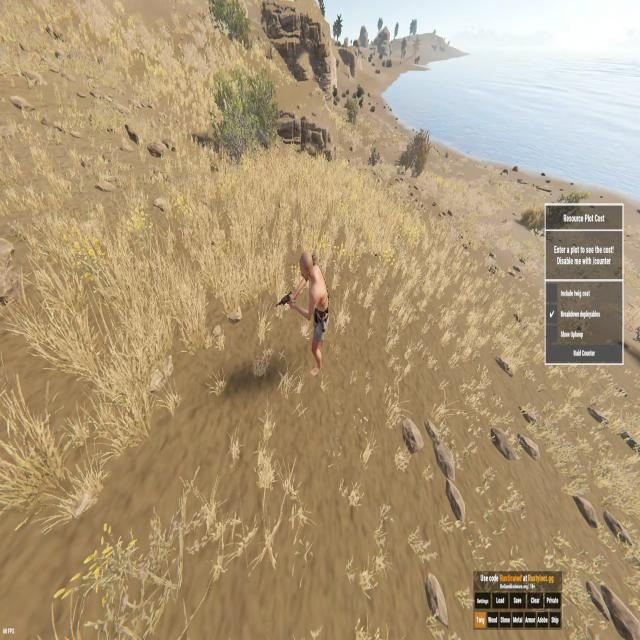Player: (293, 250, 330, 376)
